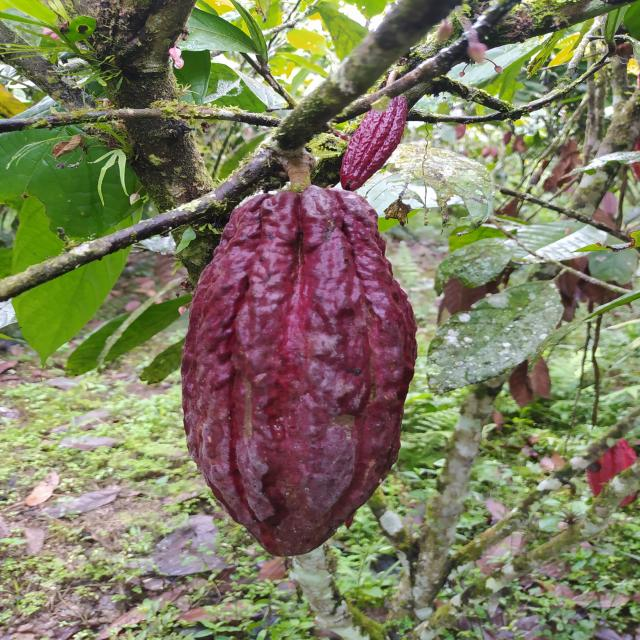Sana: (182, 187, 419, 560), (338, 93, 411, 192)
